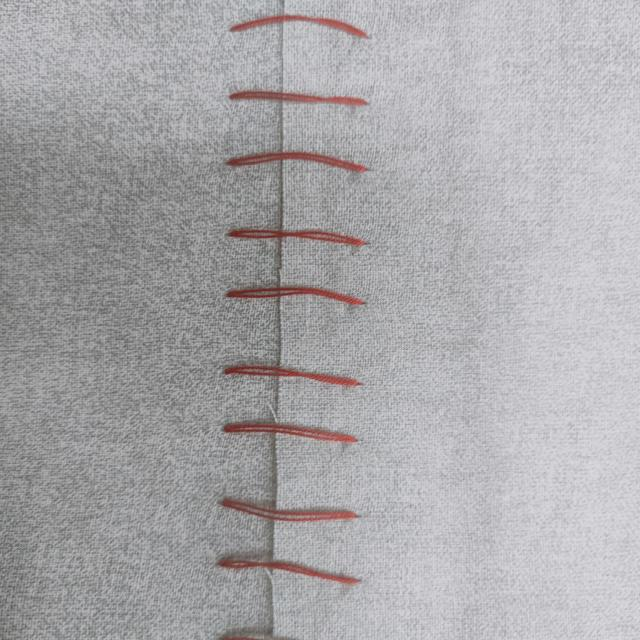gray stitch: (224, 6, 368, 317), (216, 354, 366, 640)
